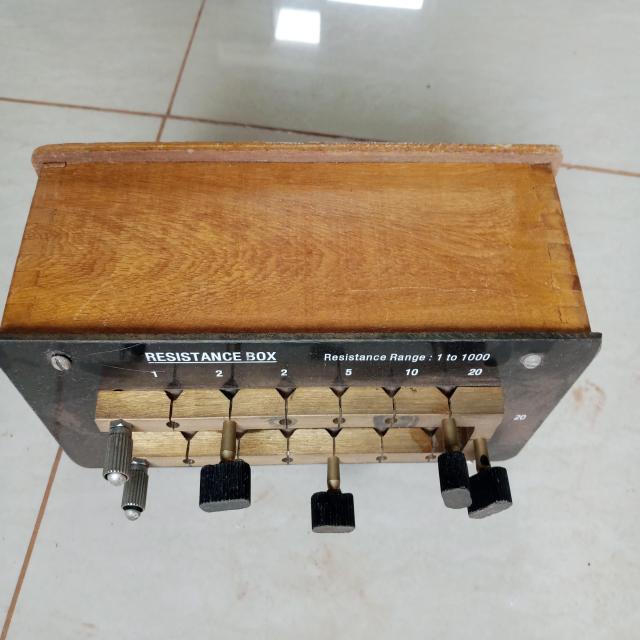Pinned Resistance Box: (8, 101, 616, 539)
